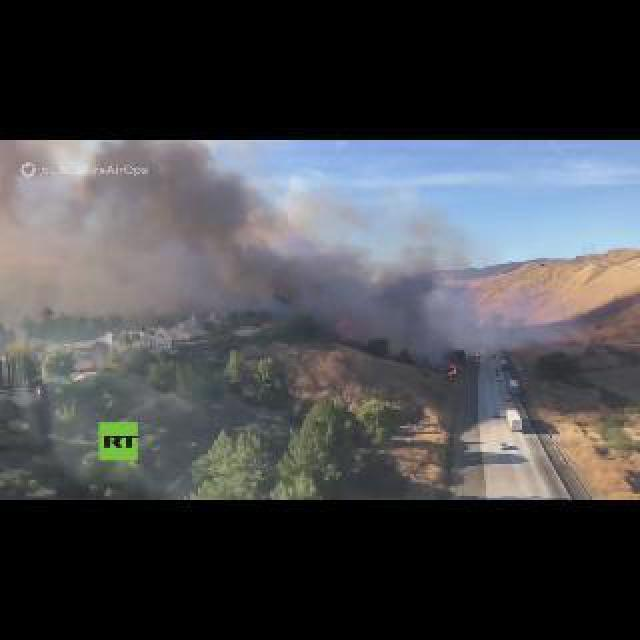Fire: (442, 364, 458, 374)
Smoke: (78, 140, 444, 360)
